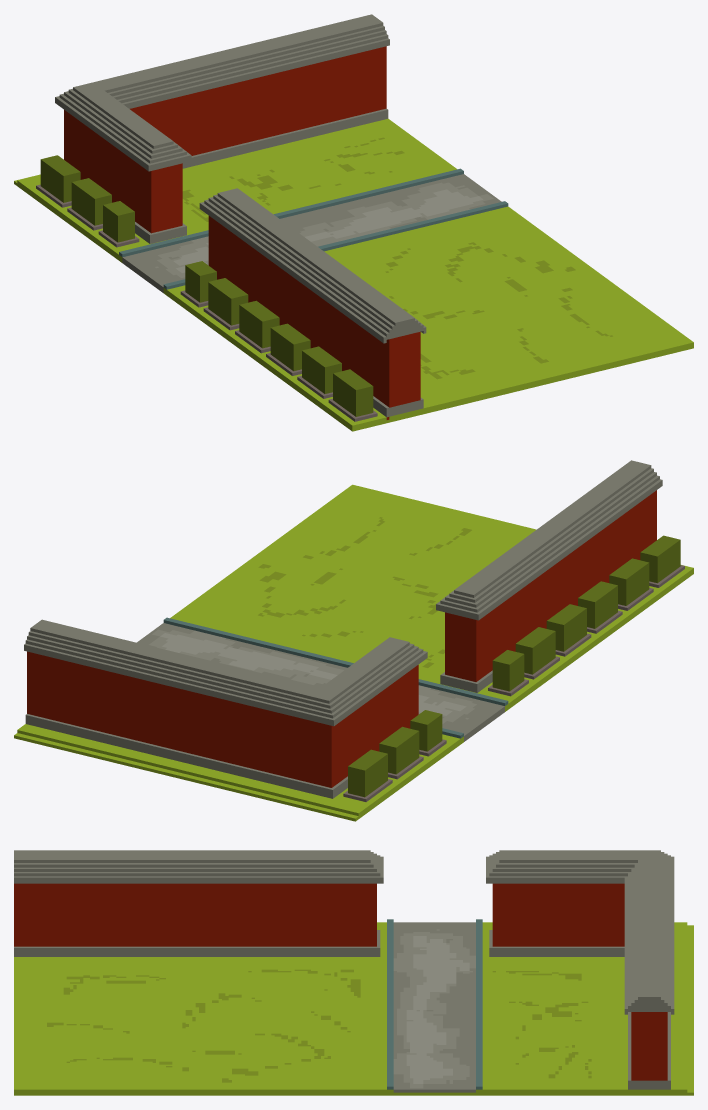
Rendered from Map-9.obj.
The picture shows the model from 3 angles, top to bottom: view 1: azimuth 30°, elevation 25°; view 2: azimuth 150°, elevation 25°; view 3: azimuth 270°, elevation 25°; orthographic projection.
Size of the model in its own units: 12 by 3.3 by 20.6.
1 material, 1 textured.
